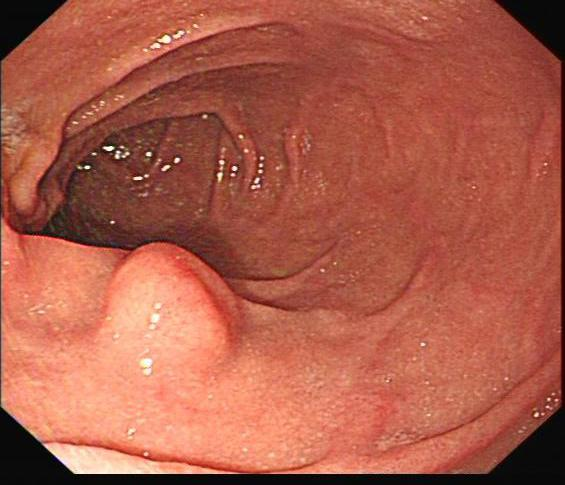Polyp: (87, 231, 246, 359)
